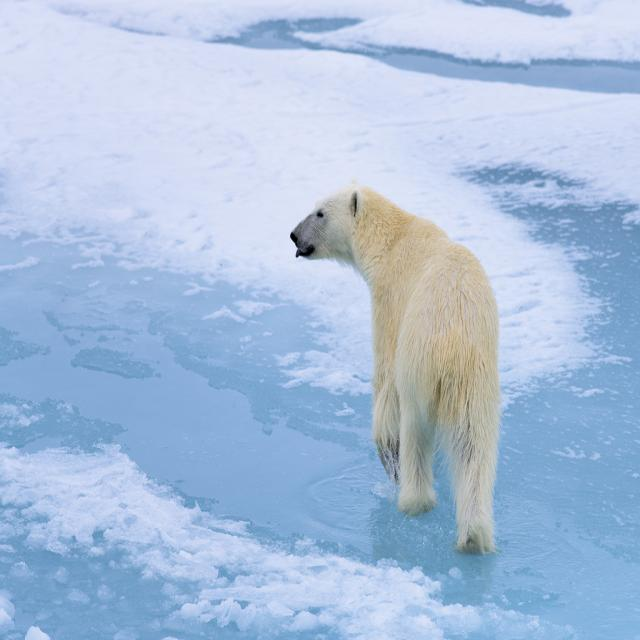Buffalo: (286, 180, 499, 557)
